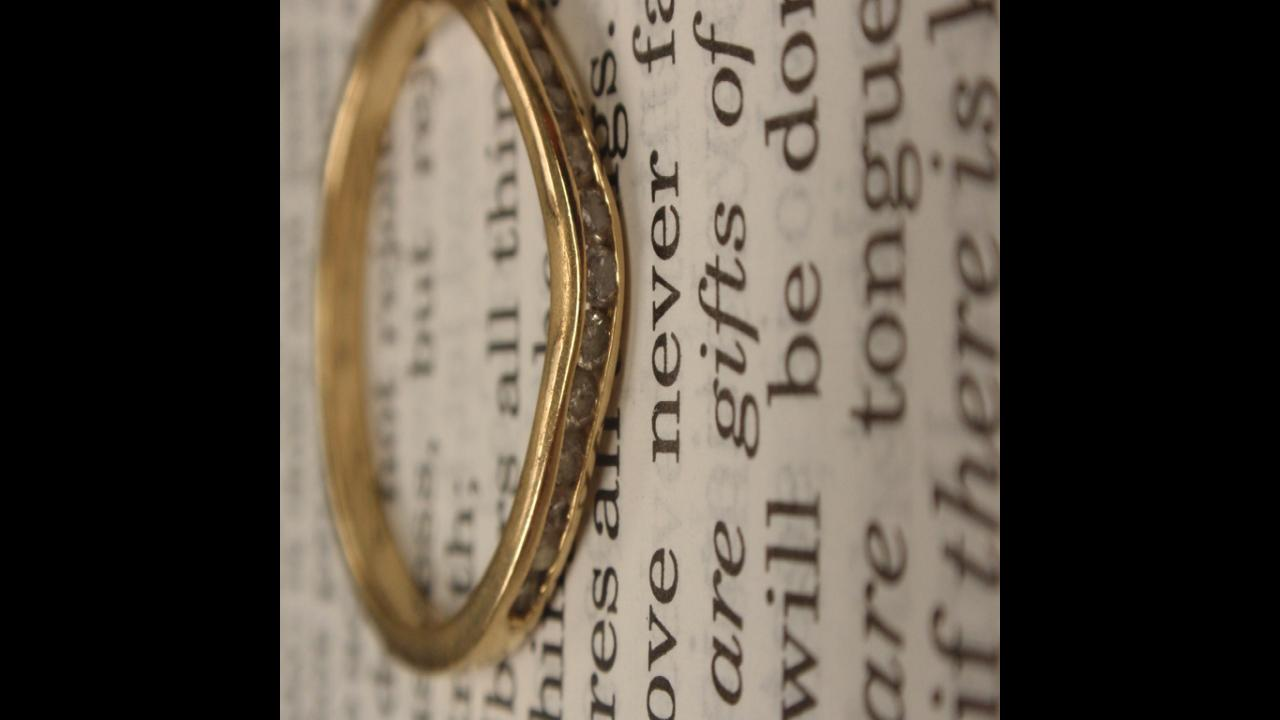ring: (307, 0, 629, 683)
